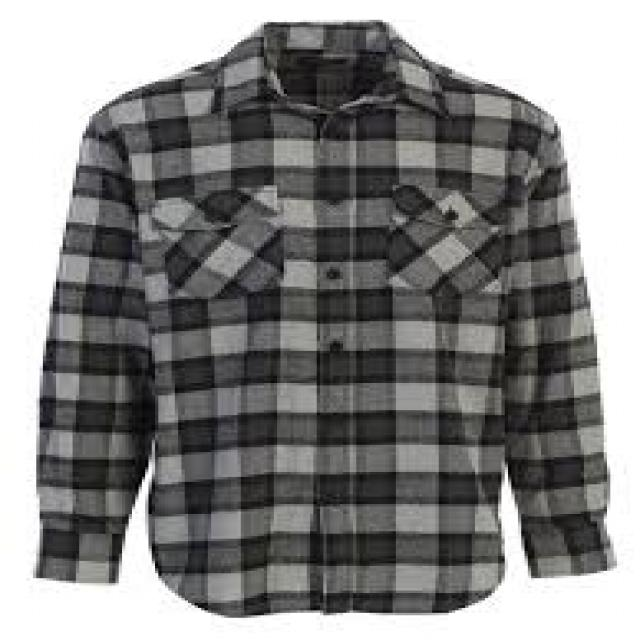plaid: (33, 14, 624, 622)
